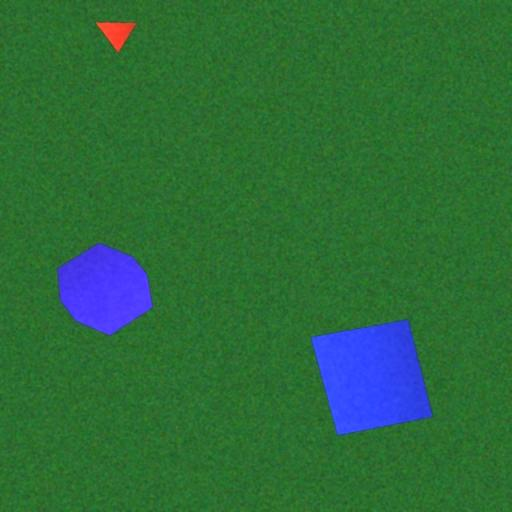BLUE_SQUARE: (310, 318, 434, 437)
